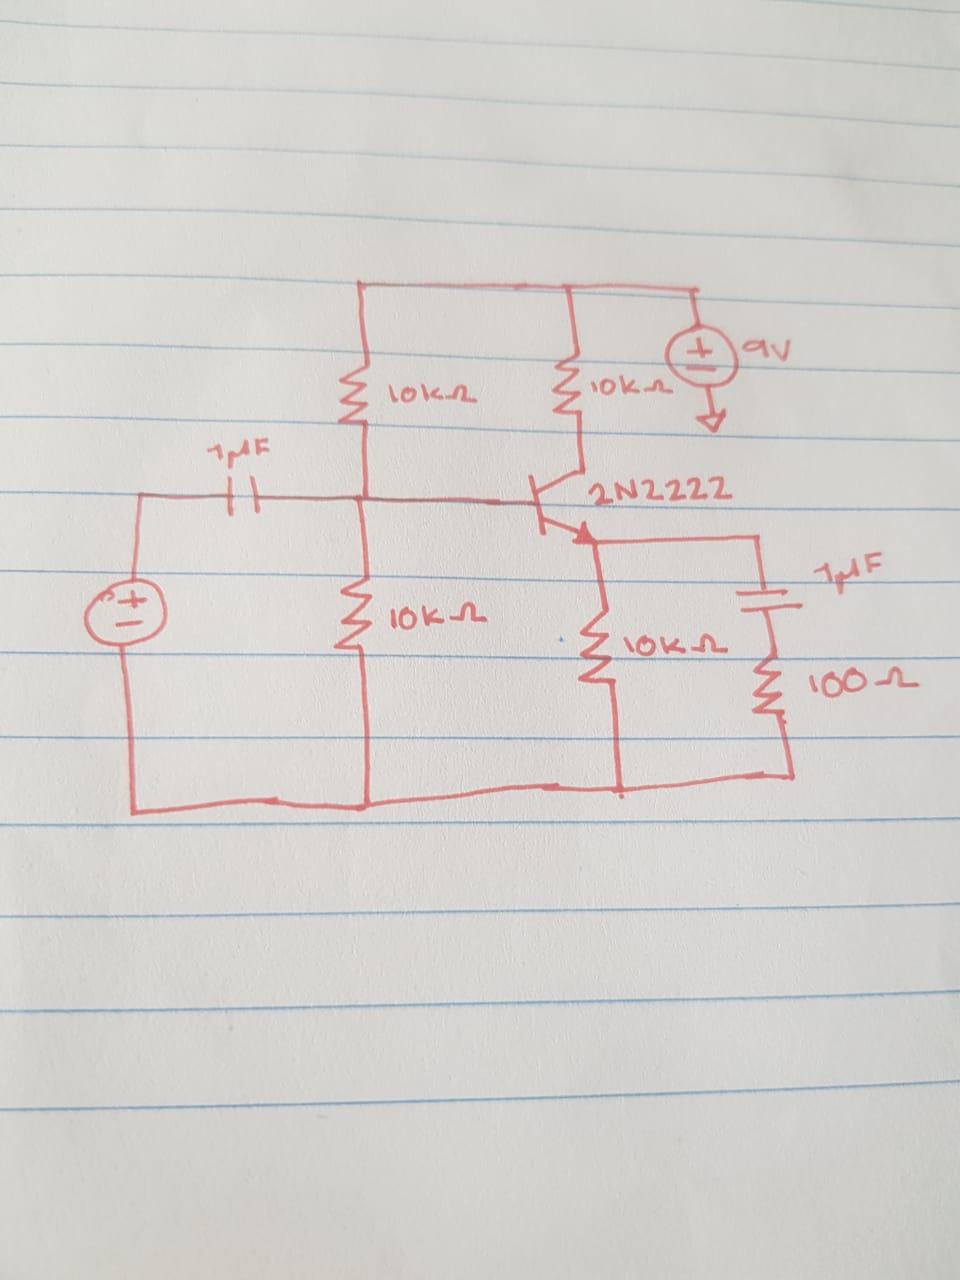capacitor.unpolarized: (730, 583, 805, 618), (219, 470, 266, 524)
gnd: (693, 409, 733, 437)
junction: (349, 486, 372, 508), (124, 800, 148, 821), (350, 276, 372, 295), (357, 793, 376, 814), (558, 278, 579, 297), (608, 779, 627, 799), (133, 486, 151, 505), (784, 768, 799, 784), (750, 530, 763, 545), (684, 282, 699, 294)
resistor: (576, 604, 624, 690), (330, 572, 378, 656), (548, 347, 589, 421), (333, 363, 378, 429), (747, 653, 790, 717)
text: (801, 659, 923, 698), (586, 478, 737, 508), (387, 599, 493, 633), (812, 551, 890, 595), (620, 631, 729, 657), (384, 381, 480, 409), (203, 435, 282, 468), (586, 374, 673, 400), (742, 337, 794, 363)
transistor: (524, 464, 598, 551)
voltage.dc: (79, 574, 170, 650), (661, 323, 741, 388)
